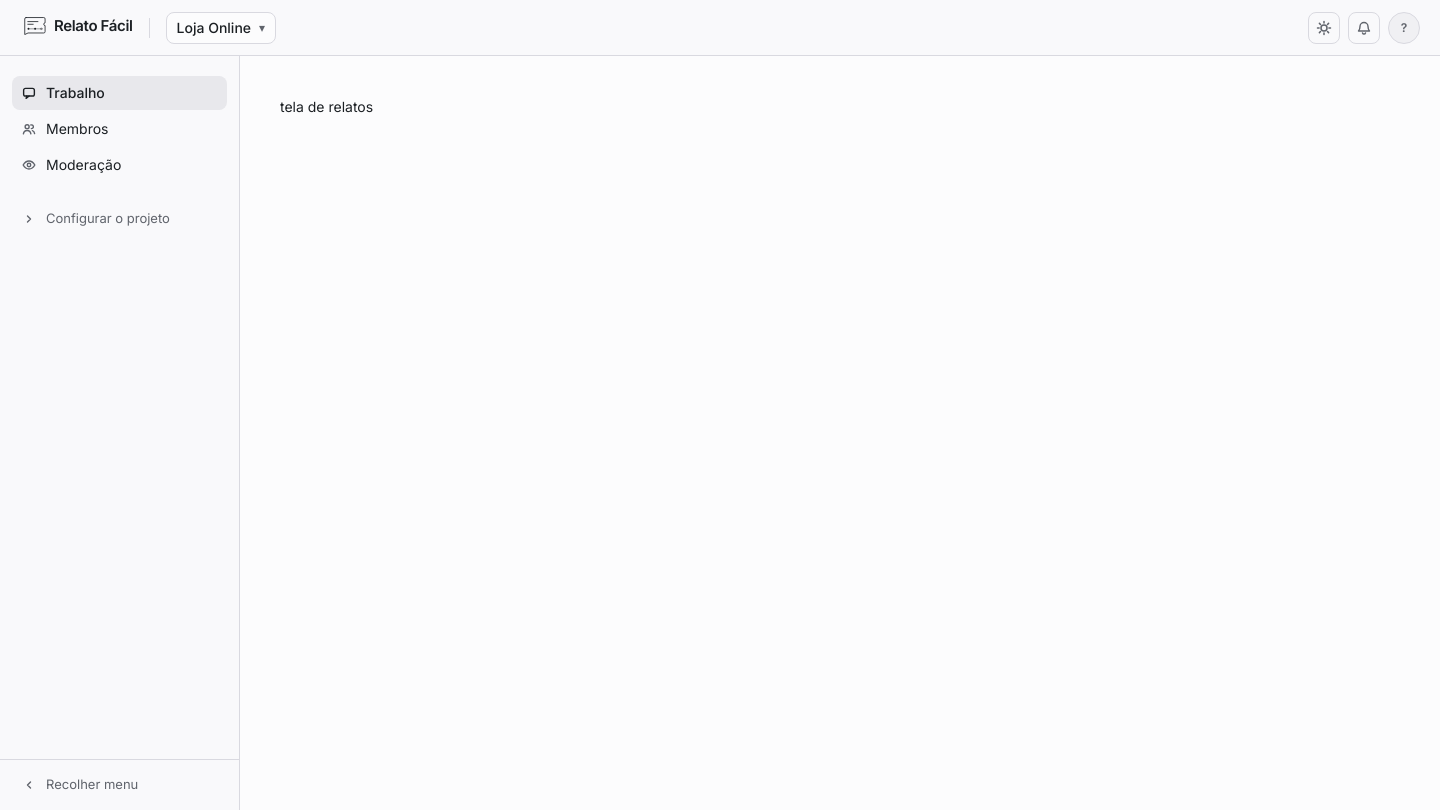
Test case: o seletor de projeto › marca o projeto aberto, e abre com o foco nele
Check: the text "tela de relatos" is shown, box top-left (280, 98), bottom-right (373, 115)
Press the mouse on the button "Loja Online ▾" at x=221, y=28, box top-left (166, 12), bottom-right (276, 44)
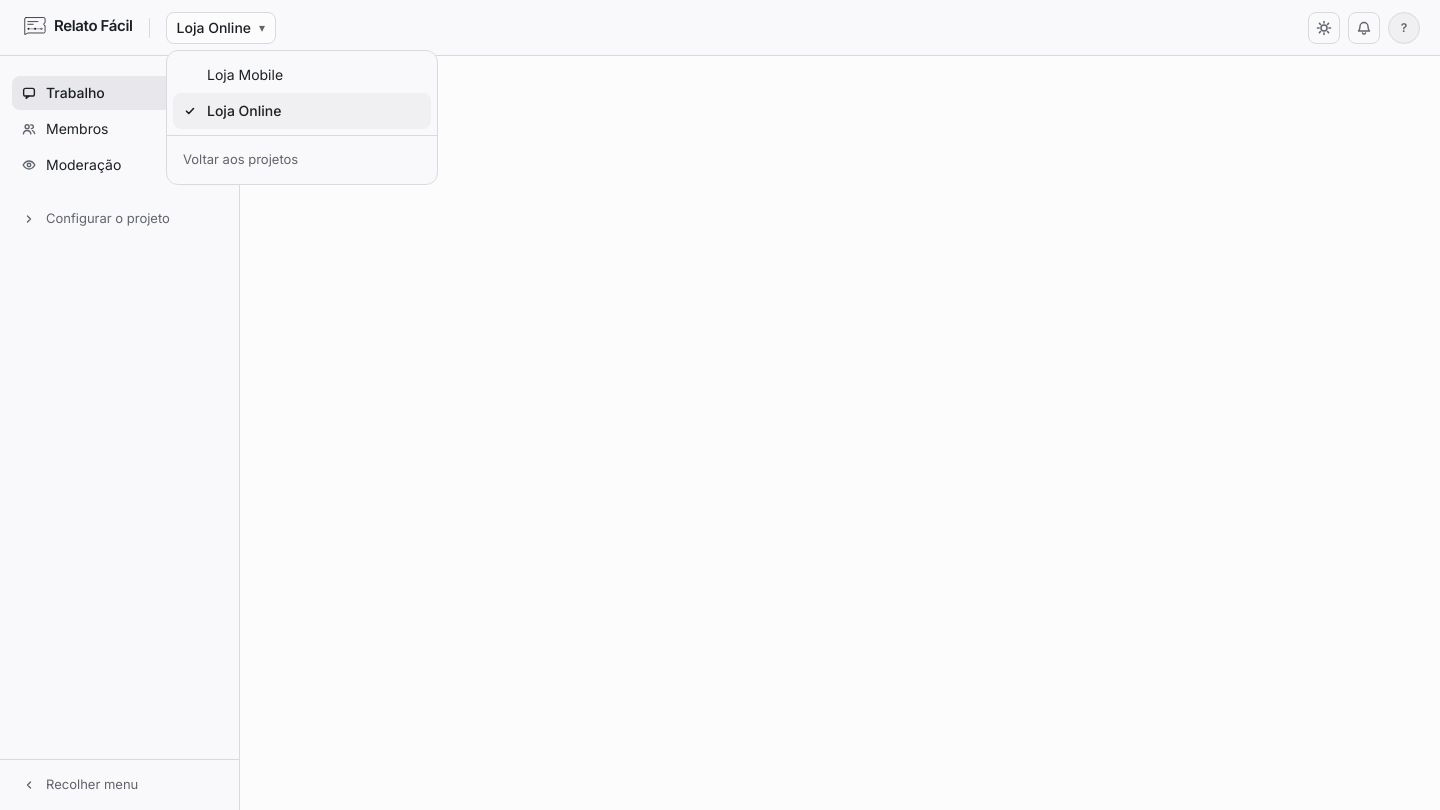
Check: the icon below "Loja Mobile" is shown, box top-left (184, 105), bottom-right (196, 117)
